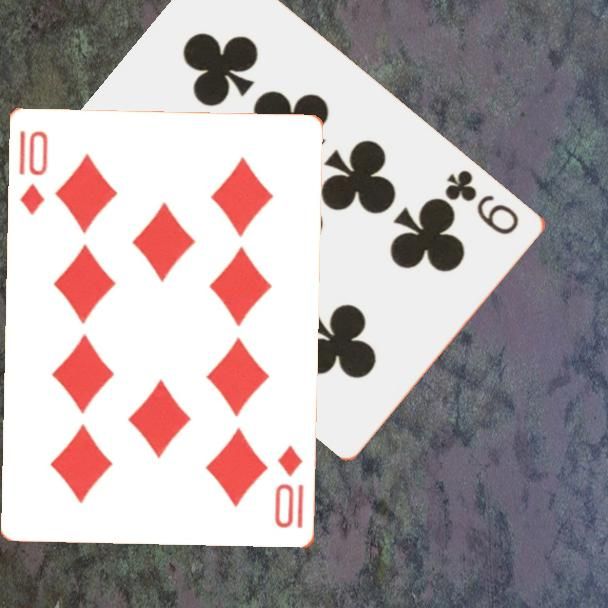c09: (441, 166, 523, 238)
d10: (16, 127, 51, 219), (271, 442, 307, 531)
